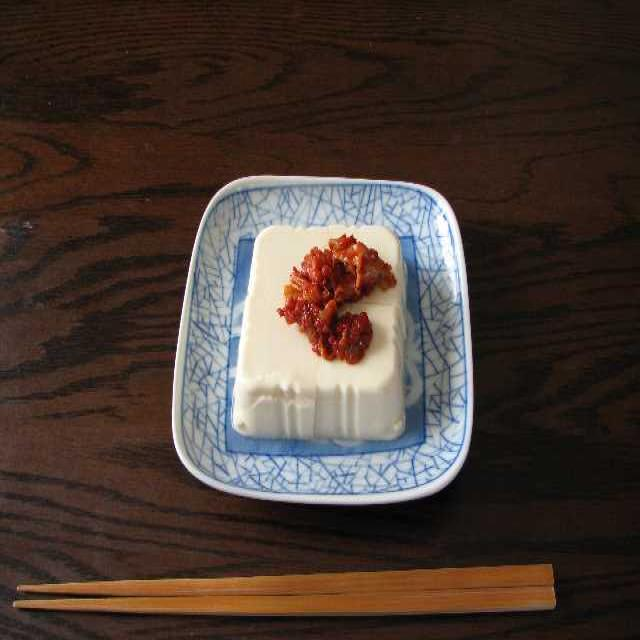豆腐料理: (225, 221, 409, 443)
